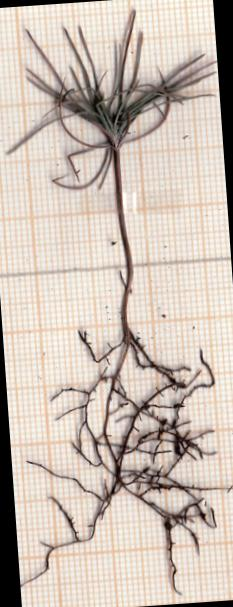flower: (8, 10, 216, 189)
root: (28, 330, 230, 594)
stem: (113, 150, 133, 359)
